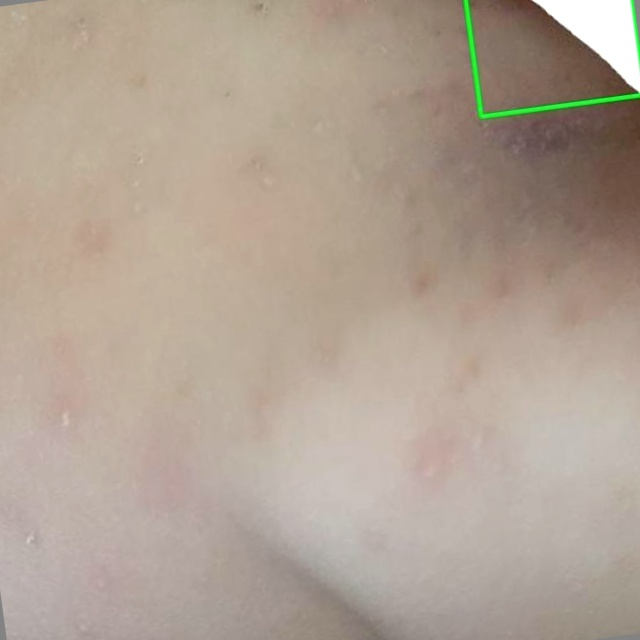Contact Dermatitis: (465, 0, 639, 116)
